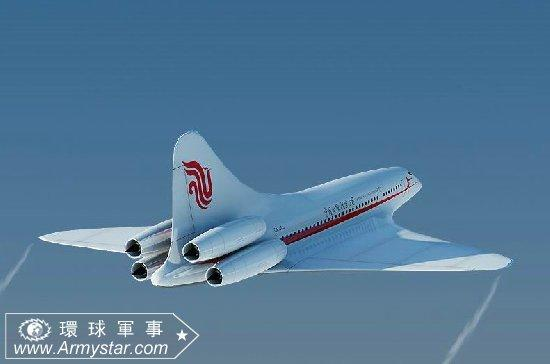airplane: (31, 129, 510, 296)
